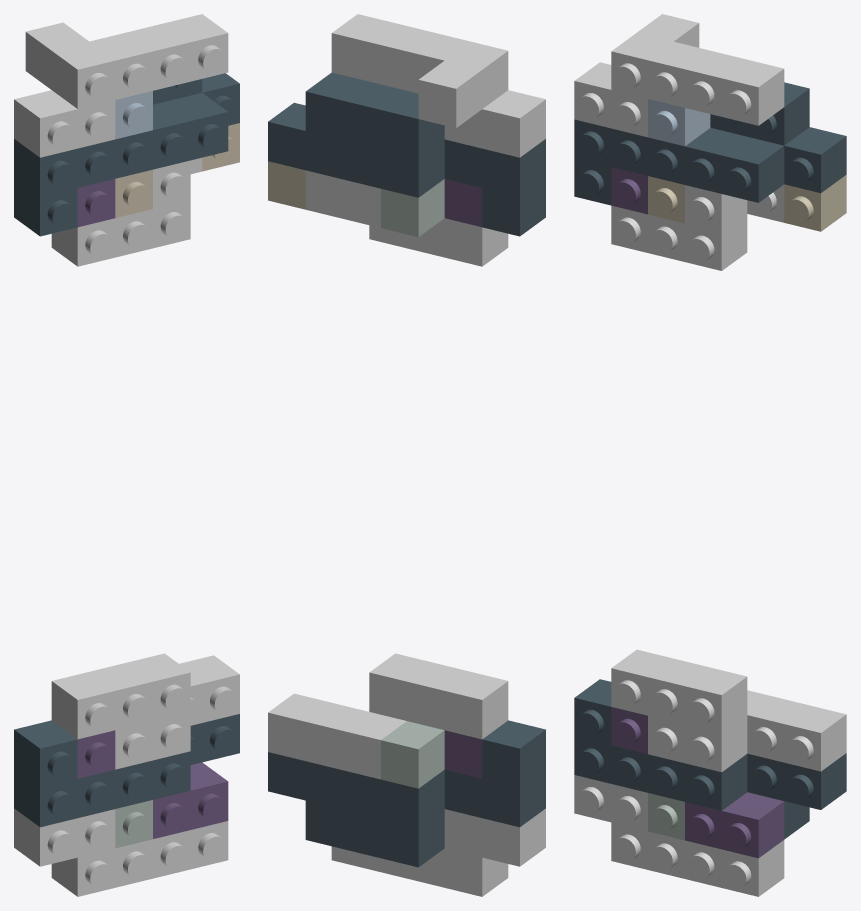
The model's file is full.glb.
The picture shows the model from 3 angles, left to right: view 1: azimuth 30°, elevation 25°; view 2: azimuth 150°, elevation 25°; view 3: azimuth 330°, elevation 25°; orthographic projection. The views are drawn at different scales.
Visible parts, largest first — view 1: world; view 2: world; view 3: world.
Boxes of the visible parts, x1=… form: world: x1=14, y1=14, x2=239, y2=896; world: x1=268, y1=14, x2=545, y2=896; world: x1=574, y1=14, x2=846, y2=896.
Size of the model in its own units: 48 by 168 by 21.
